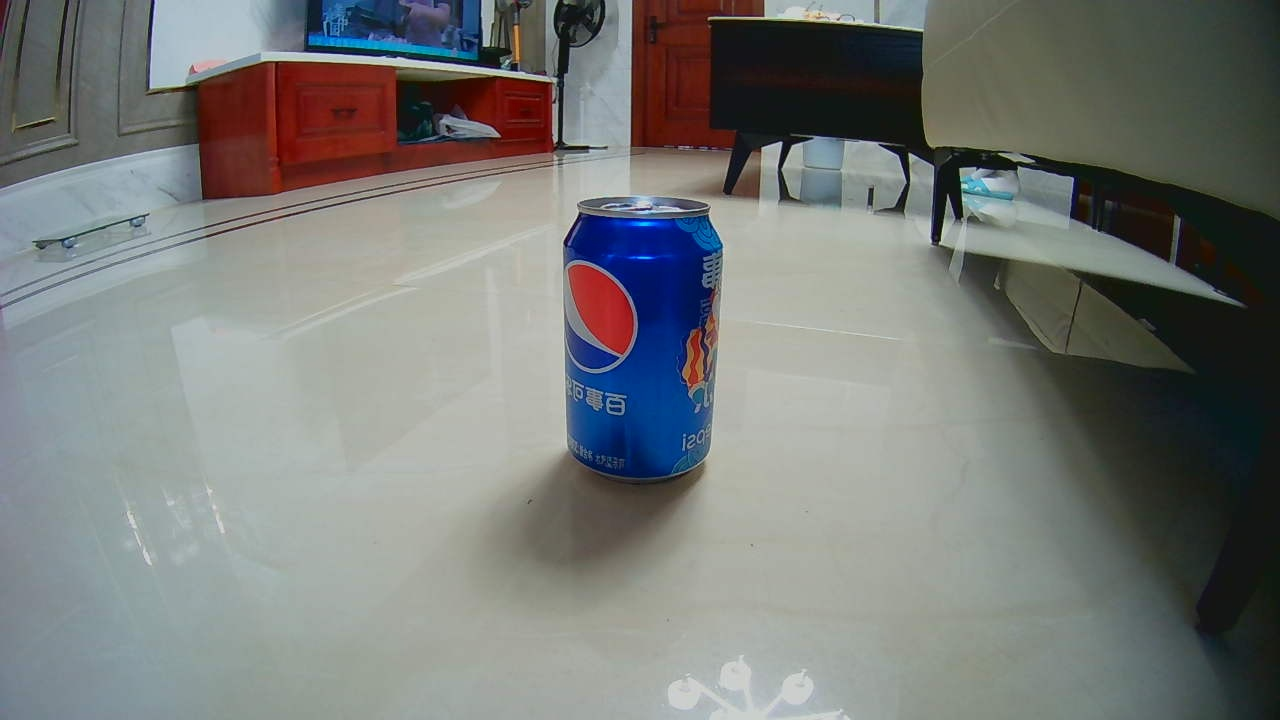pessi: (555, 205, 713, 476)
